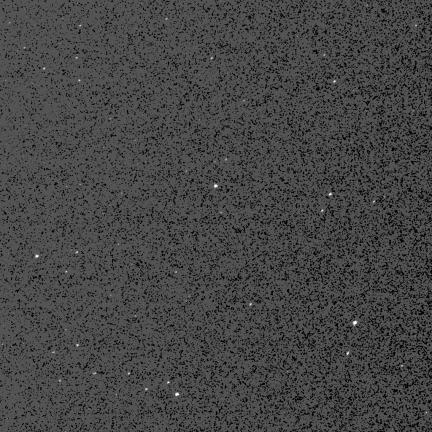blob: (214, 184, 219, 189), (36, 255, 40, 259), (353, 321, 357, 325), (176, 392, 179, 396), (334, 81, 336, 84)
